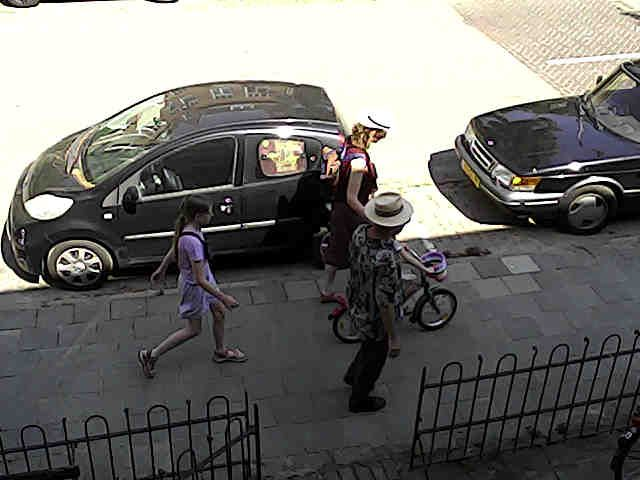male: (138, 195, 245, 377), (344, 192, 412, 412), (320, 111, 390, 302)
suv: (2, 81, 343, 288), (455, 61, 639, 233), (0, 0, 39, 7)
